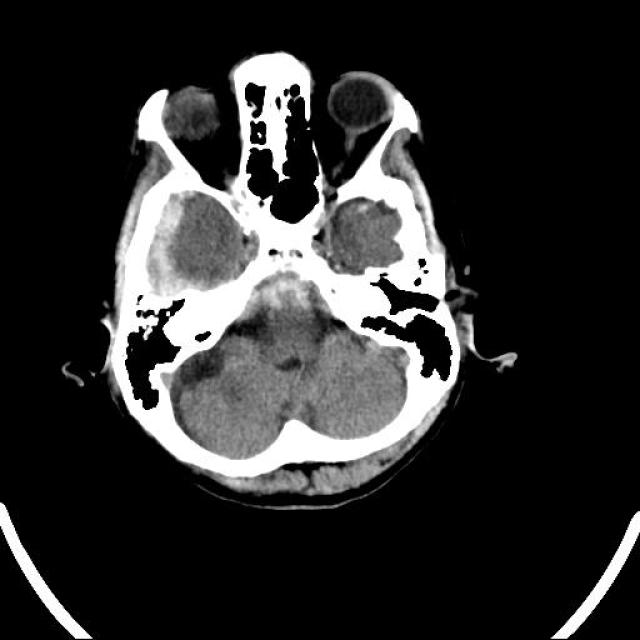Subdural: (110, 182, 211, 318)
